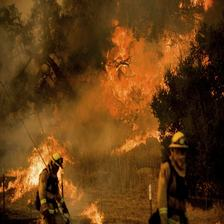fire: (72, 6, 215, 124), (9, 132, 53, 204), (103, 124, 162, 157), (65, 183, 112, 221)
